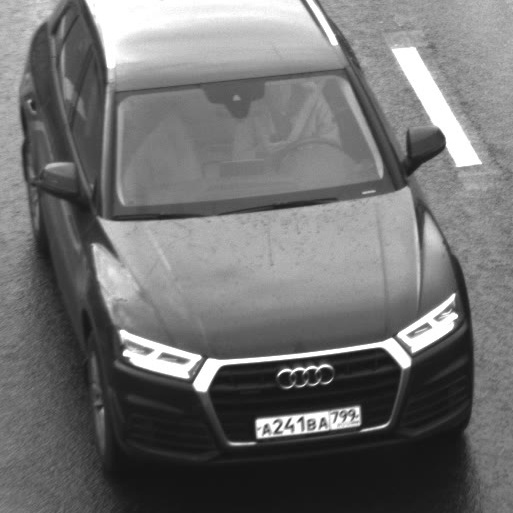plate: (242, 391, 373, 447)
